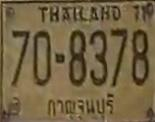0: (32, 30, 51, 86)
3: (89, 30, 107, 86)
7: (12, 29, 30, 88), (110, 28, 127, 87)
8: (131, 28, 149, 85), (68, 29, 86, 85)
KRI: (45, 92, 119, 122)
